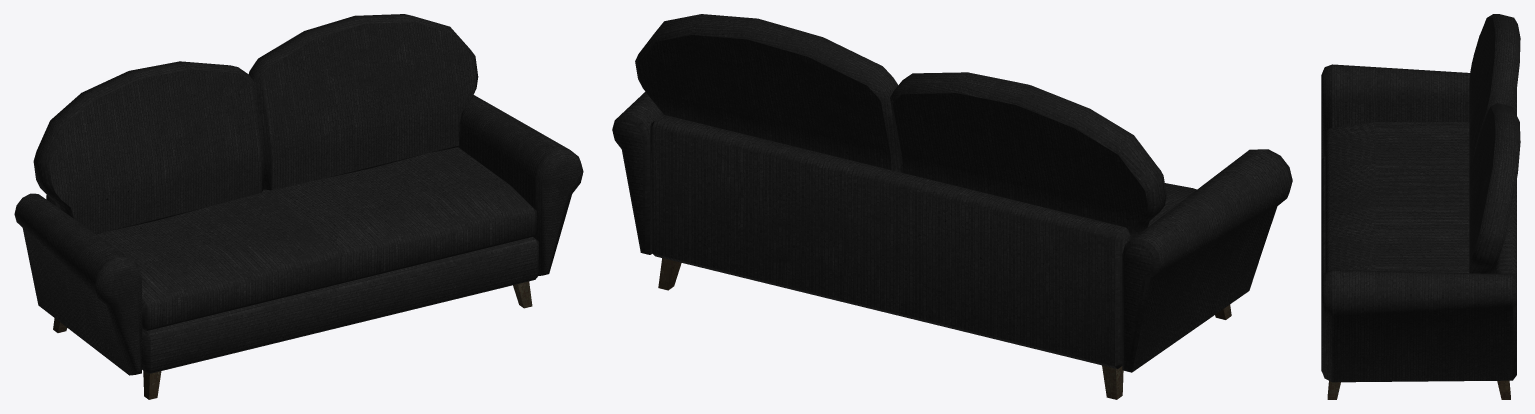
The model's file is sofa_2_3.glb.
3 views of the same model, side by side, from view 1: azimuth 30°, elevation 25°; view 2: azimuth 150°, elevation 25°; view 3: azimuth 270°, elevation 25° (orthographic). The views are drawn at different scales.
Parts seen in each view (by area): view 1: sofa_2_3; view 2: sofa_2_3; view 3: sofa_2_3.
Part boxes in pixels (bbox=[...]): sofa_2_3: bbox=[14, 14, 583, 399]; sofa_2_3: bbox=[612, 14, 1292, 399]; sofa_2_3: bbox=[1321, 14, 1520, 399].
Size of the model in its own units: 2.47 by 1.17 by 0.9157.
Materials: 2 (2 with a texture image).
